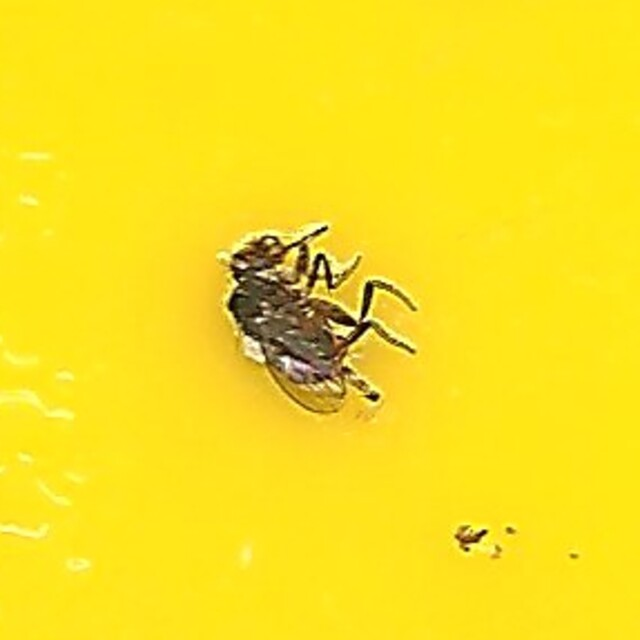Brachycera: (223, 221, 417, 419)
